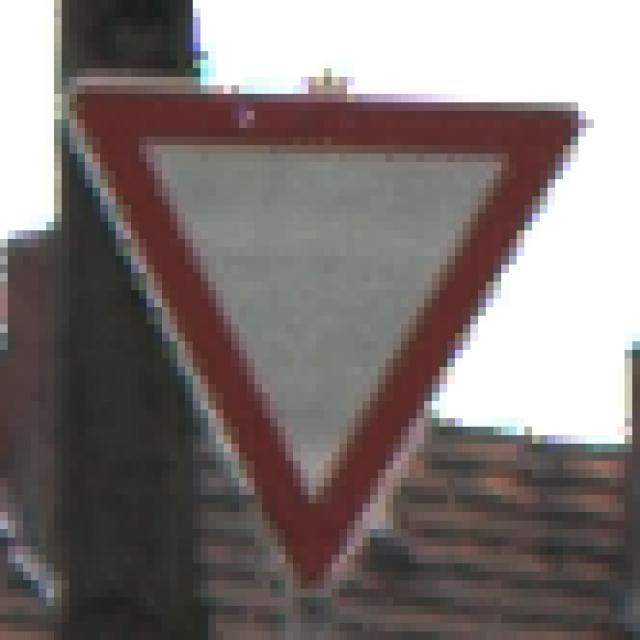Give Way: (55, 52, 587, 590)
